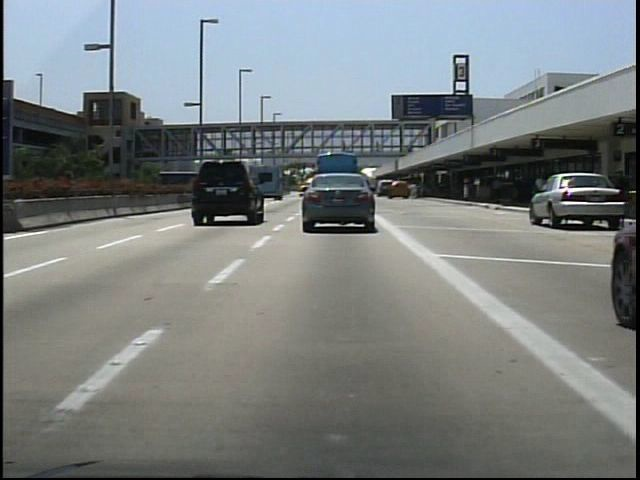person: (531, 169, 548, 210), (489, 173, 506, 205), (406, 178, 422, 205), (372, 136, 385, 158), (338, 136, 351, 156)
